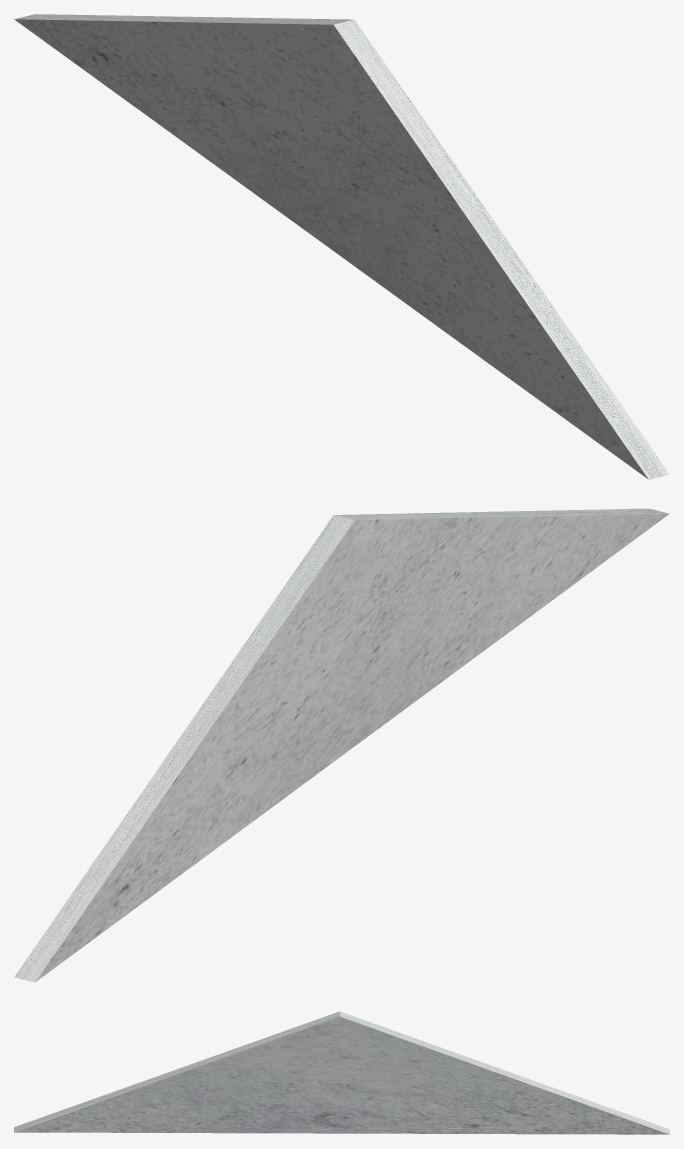
Rendered from RoofSupport.fbx.
3 renders of one model, top to bottom at view 1: azimuth 30°, elevation 25°; view 2: azimuth 150°, elevation 25°; view 3: azimuth 270°, elevation 25°, orthographic. The views are drawn at different scales.
Parts seen in each view (by area): view 1: pCube2; view 2: pCube2; view 3: pCube2.
Part boxes in pixels (x1=…): pCube2: x1=14, y1=14, x2=669, y2=479; pCube2: x1=14, y1=508, x2=669, y2=982; pCube2: x1=14, y1=1011, x2=669, y2=1134.
Size of the model in its own units: 0.6099 by 6.31 by 31.78.
Materials: 1 (1 with a texture image).
